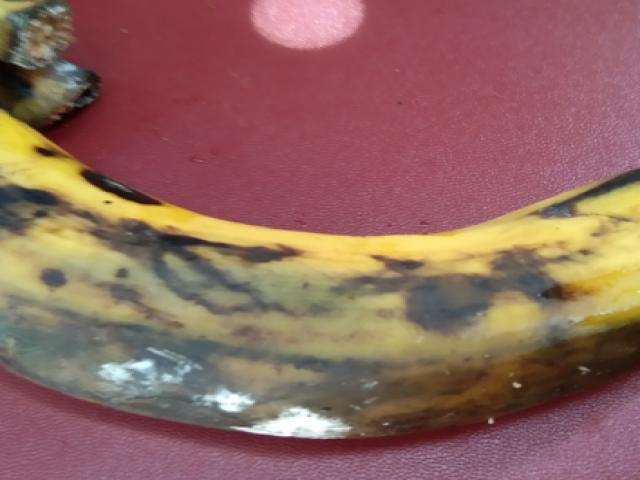rotten: (3, 106, 639, 466)
